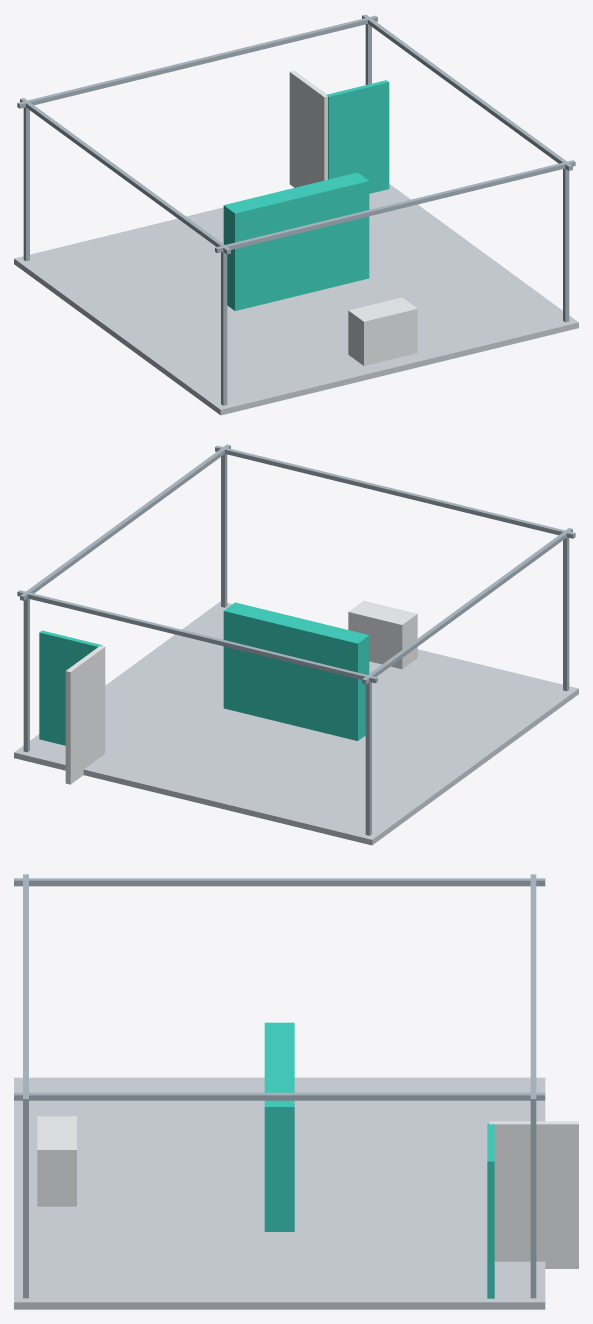
The picture shows the model from 3 angles, top to bottom: view 1: azimuth 30°, elevation 25°; view 2: azimuth 150°, elevation 25°; view 3: azimuth 270°, elevation 25°; orthographic projection. The views are drawn at different scales.
Visible parts, largest first — view 1: Exhibition Booth Concept; view 2: Exhibition Booth Concept; view 3: Exhibition Booth Concept.
Boxes of the visible parts, x1,y1,x2,y2 form: Exhibition Booth Concept: [14, 14, 578, 415]; Exhibition Booth Concept: [14, 444, 578, 845]; Exhibition Booth Concept: [14, 874, 578, 1309].
Bounding box in the file's own units: 8 × 3.49 × 8.51.
